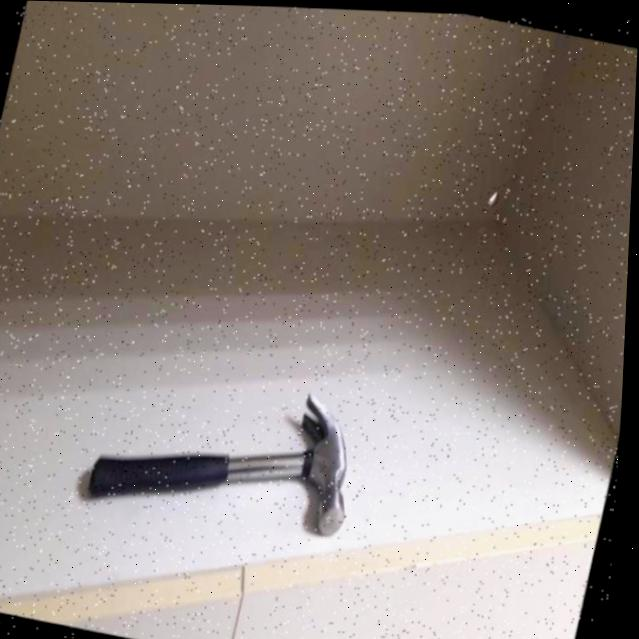hammer: (99, 384, 352, 530)
